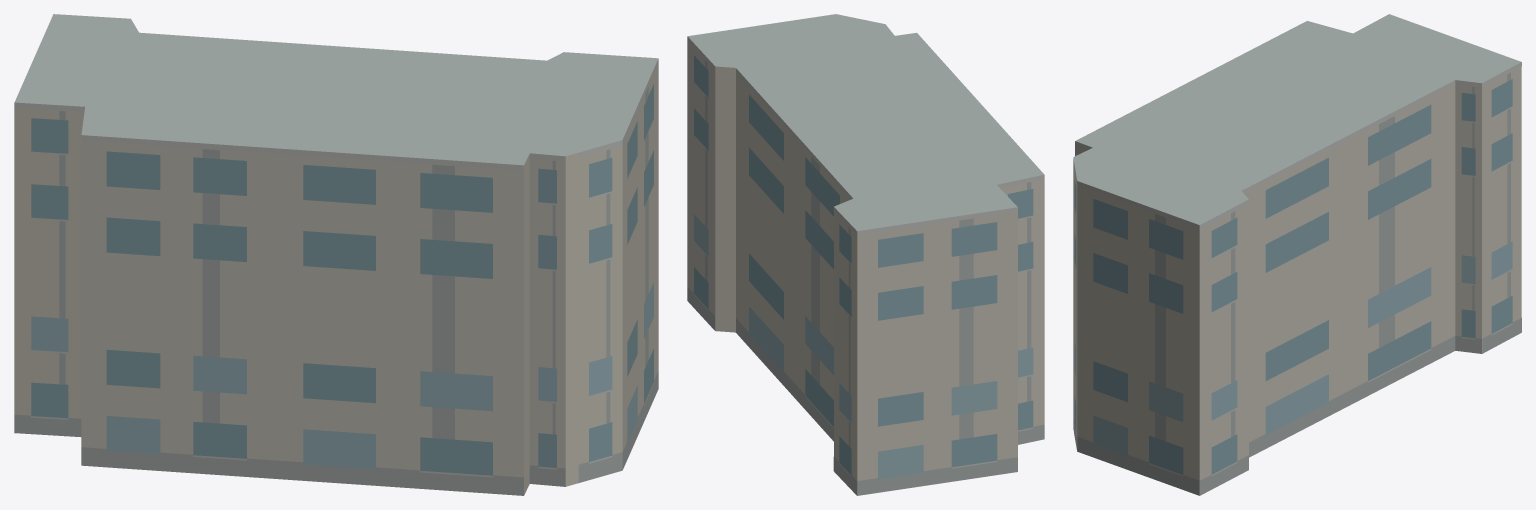
Rendered from survey-upis-32775713.glb.
3 views of the same model, side by side, from view 1: azimuth 30°, elevation 25°; view 2: azimuth 150°, elevation 25°; view 3: azimuth 270°, elevation 25° (orthographic). The views are drawn at different scales.
Visible parts, largest first — view 1: survey-upis-32775713.tmp; view 2: survey-upis-32775713.tmp; view 3: survey-upis-32775713.tmp.
Boxes of the visible parts, bbox=[...] form: survey-upis-32775713.tmp: bbox=[14, 14, 658, 495]; survey-upis-32775713.tmp: bbox=[687, 14, 1044, 495]; survey-upis-32775713.tmp: bbox=[1073, 14, 1521, 495].
Size of the model in its own units: 23.76 by 14.2 by 21.33.
